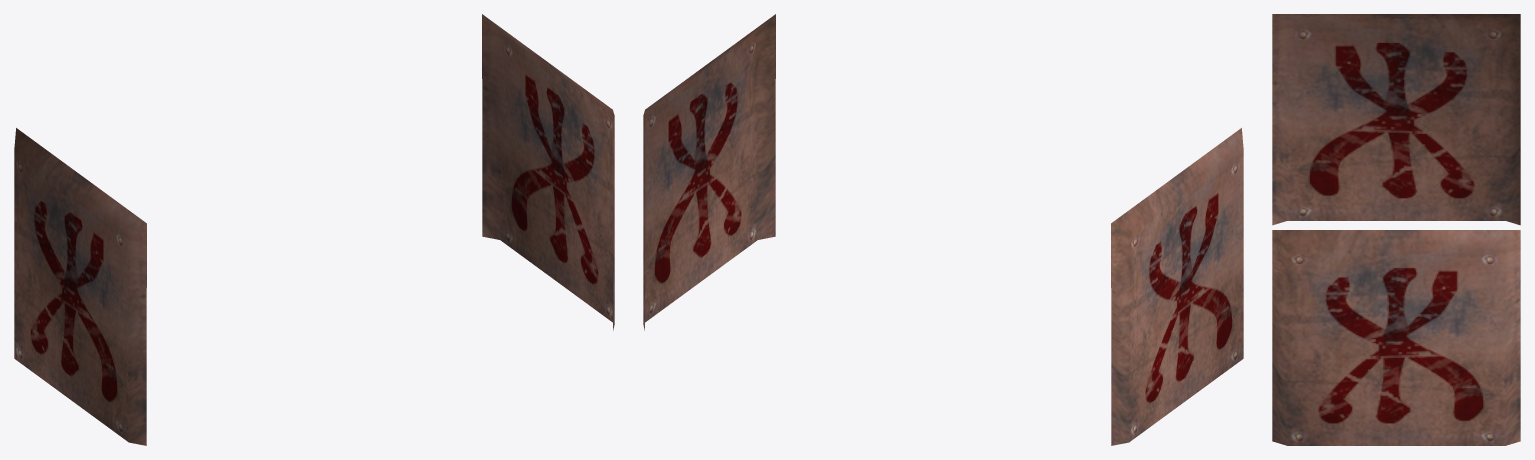
The model's file is runes.fbx.
The picture shows the model from 3 angles, left to right: view 1: azimuth 30°, elevation 25°; view 2: azimuth 150°, elevation 25°; view 3: azimuth 270°, elevation 25°; orthographic projection. The views are drawn at different scales.
Parts seen in each view (by area): view 1: Sign 6; view 2: Sign 6; view 3: Sign 6.
Boxes of the visible parts, x1=… form: Sign 6: x1=14, y1=14, x2=614, y2=445; Sign 6: x1=643, y1=14, x2=1243, y2=445; Sign 6: x1=1272, y1=14, x2=1520, y2=445.
Size of the model in its own units: 30.78 by 13.48 by 14.34.
